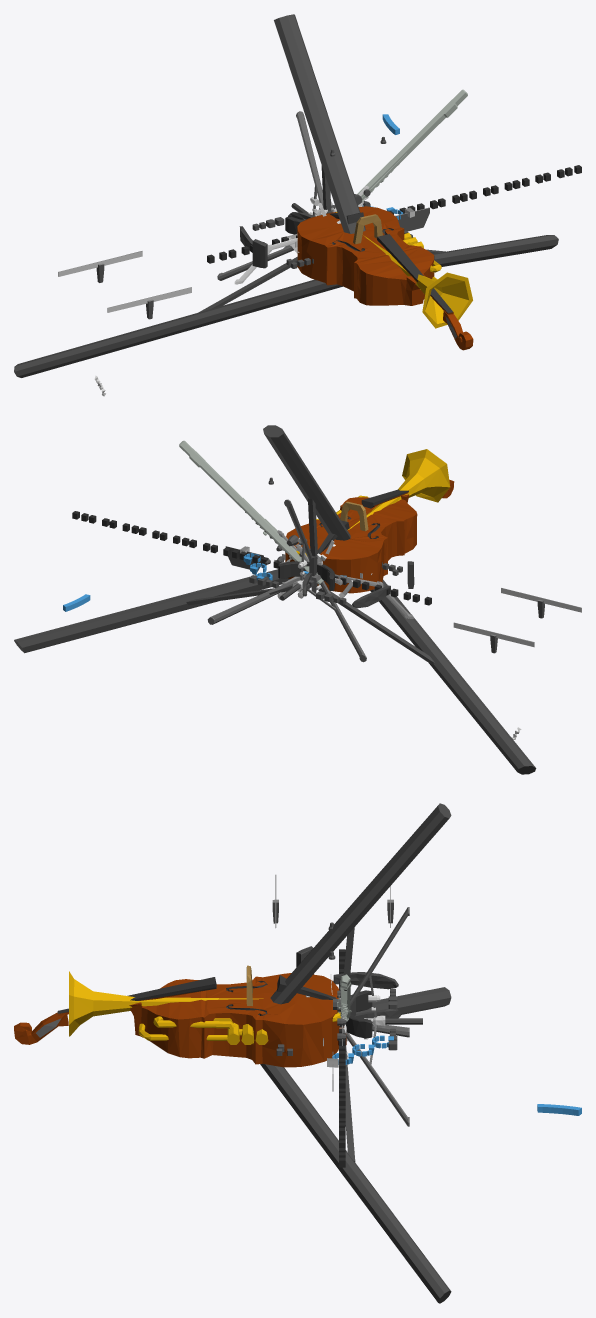
File: music-band-low-poly-907847.glb
3 renders of one model, top to bottom at view 1: azimuth 30°, elevation 25°; view 2: azimuth 150°, elevation 25°; view 3: azimuth 270°, elevation 25°, orthographic. The views are drawn at different scales.
Visible parts, largest first — view 1: PropMesh; view 2: PropMesh; view 3: PropMesh.
Boxes of the visible parts, x1,y1,x2,y2 form: PropMesh: [14, 14, 581, 396]; PropMesh: [14, 425, 581, 774]; PropMesh: [14, 803, 581, 1303].
Bounding box in the file's own units: 4.11 × 2.2 × 3.19.
